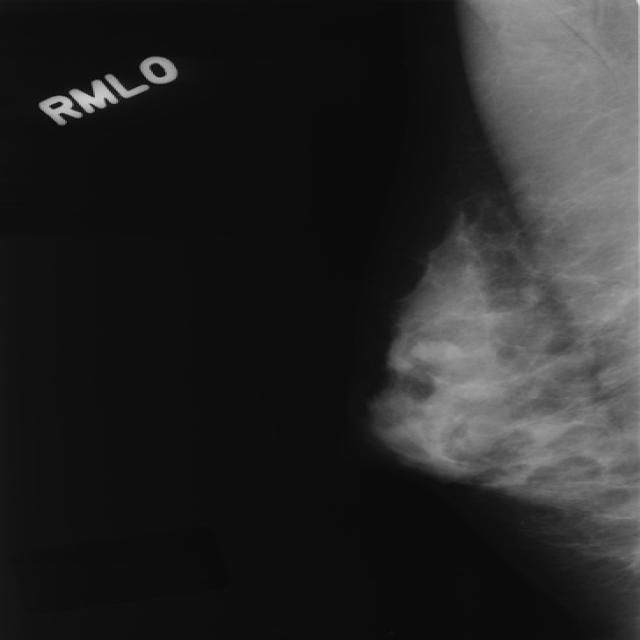tumour: (406, 338, 461, 361)
